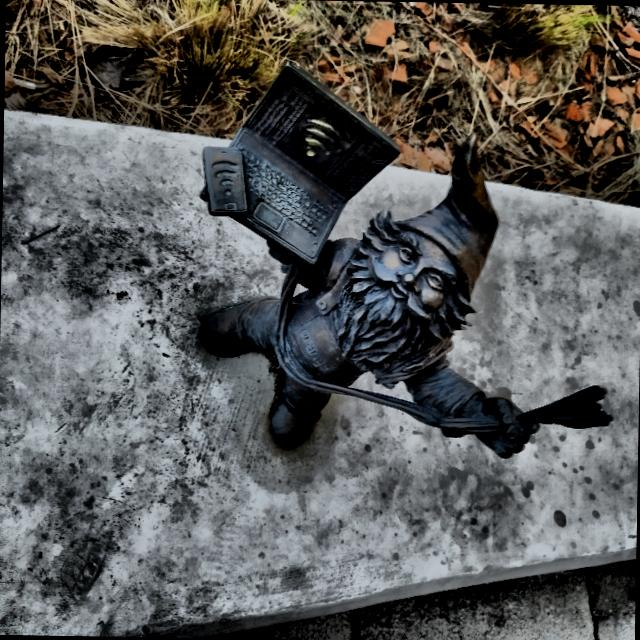Krasnal_Teleclaw: (198, 61, 611, 457)
